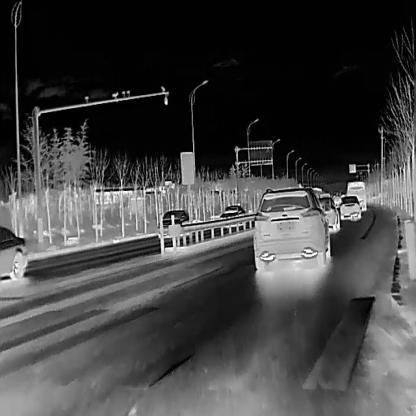car: (252, 187, 328, 269), (0, 223, 27, 281), (157, 208, 196, 242), (317, 196, 340, 232), (219, 204, 247, 230), (347, 181, 366, 211), (339, 194, 361, 219)
